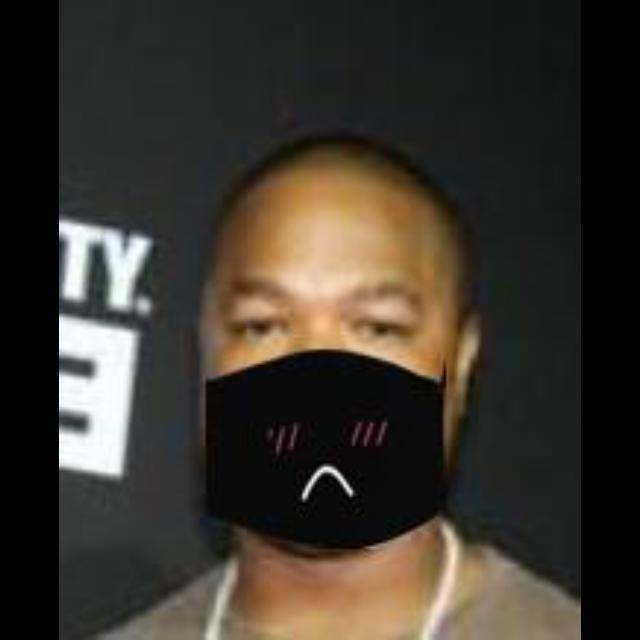suspicion: (116, 82, 504, 572)
